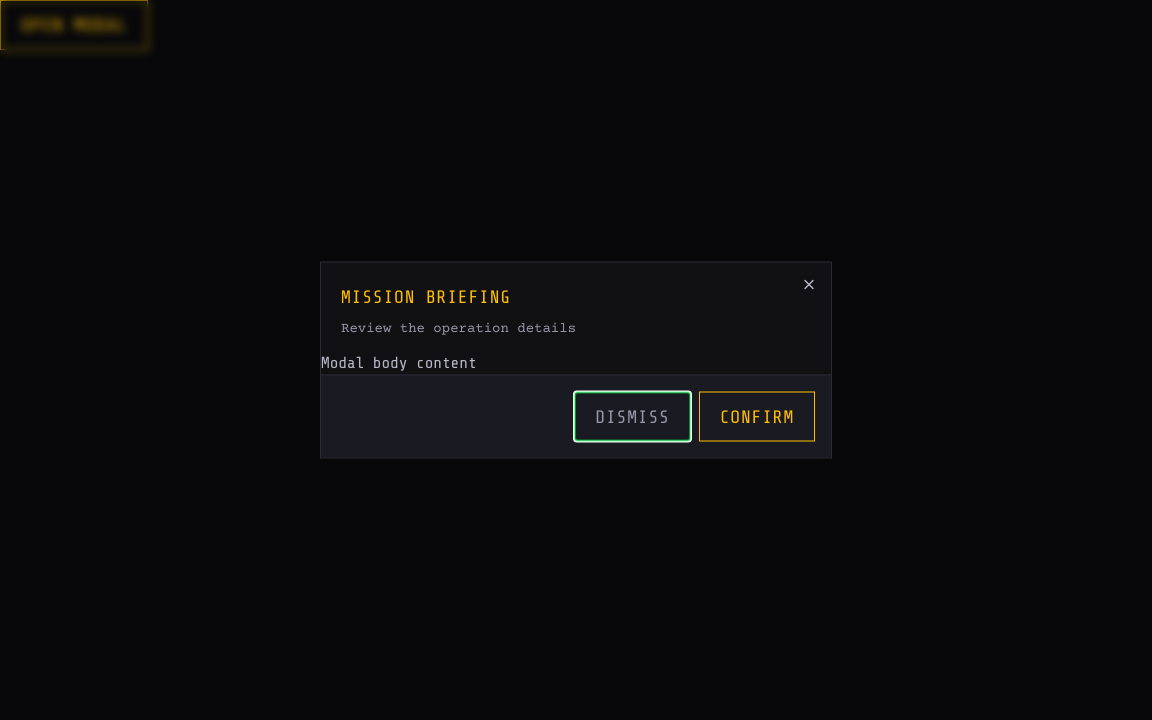
Test: TacModal › closes when close button is clicked
Check: the heading "Mission Briefing" is shown, box [341, 286, 511, 306]
Click the button "Dismiss": x=632, y=416 [574, 392, 691, 442]
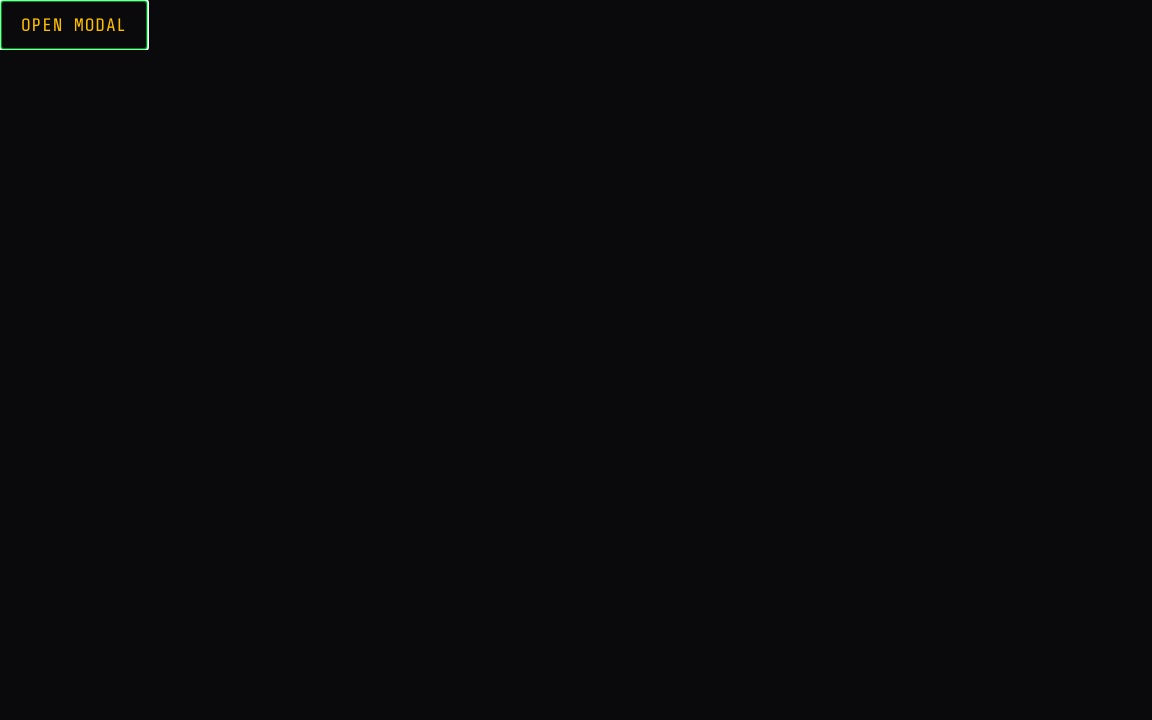
Check: the heading "Mission Briefing" is gone
